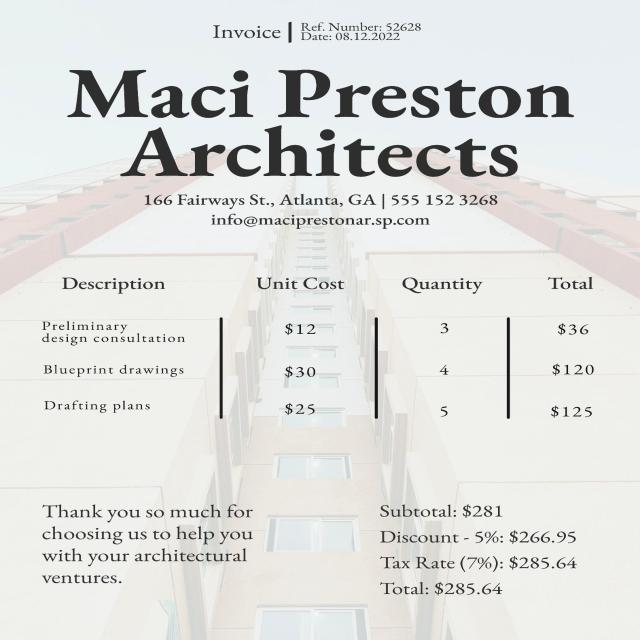paragraph: (54, 53, 597, 234), (366, 490, 590, 608), (30, 492, 262, 599), (204, 15, 430, 46)
table: (22, 262, 611, 432)
